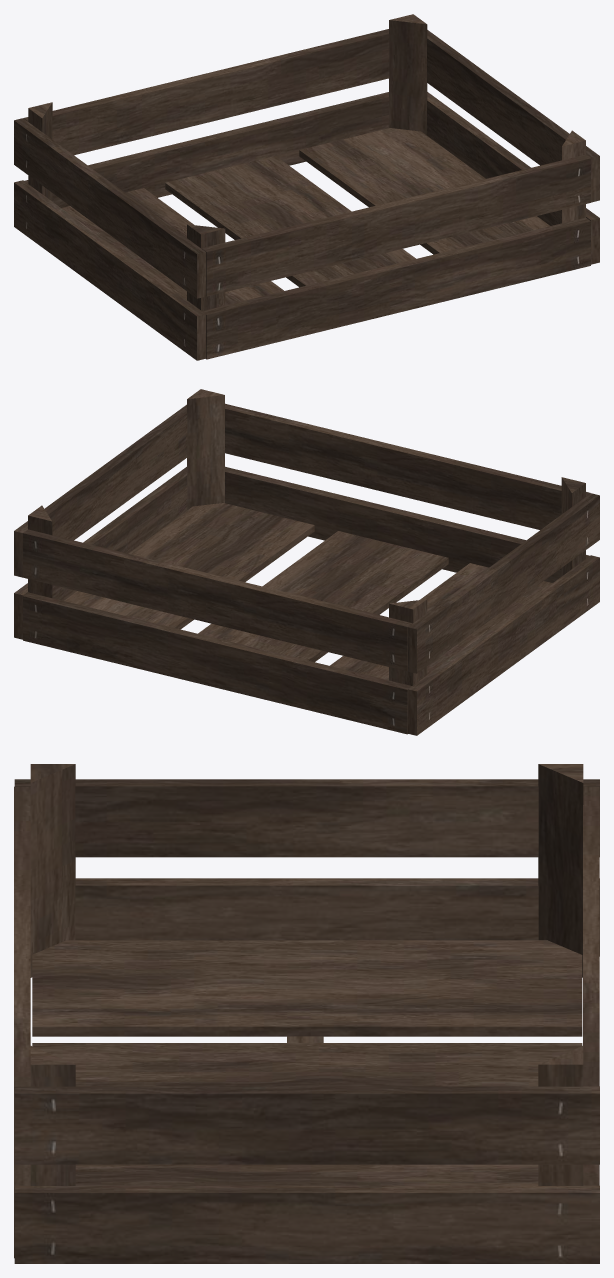
The model's file is Crate.glb.
3 views of the same model, one above another, from view 1: azimuth 30°, elevation 25°; view 2: azimuth 150°, elevation 25°; view 3: azimuth 270°, elevation 25° (orthographic). The views are drawn at different scales.
Visible parts, largest first — view 1: Crate2; view 2: Crate2; view 3: Crate2.
Boxes of the visible parts, x1,y1,x2,y2 form: Crate2: [14, 14, 599, 360]; Crate2: [14, 389, 599, 735]; Crate2: [14, 764, 599, 1263].
Size of the model in its own units: 26.14 by 7.56 by 20.59.
1 material, 1 textured.
